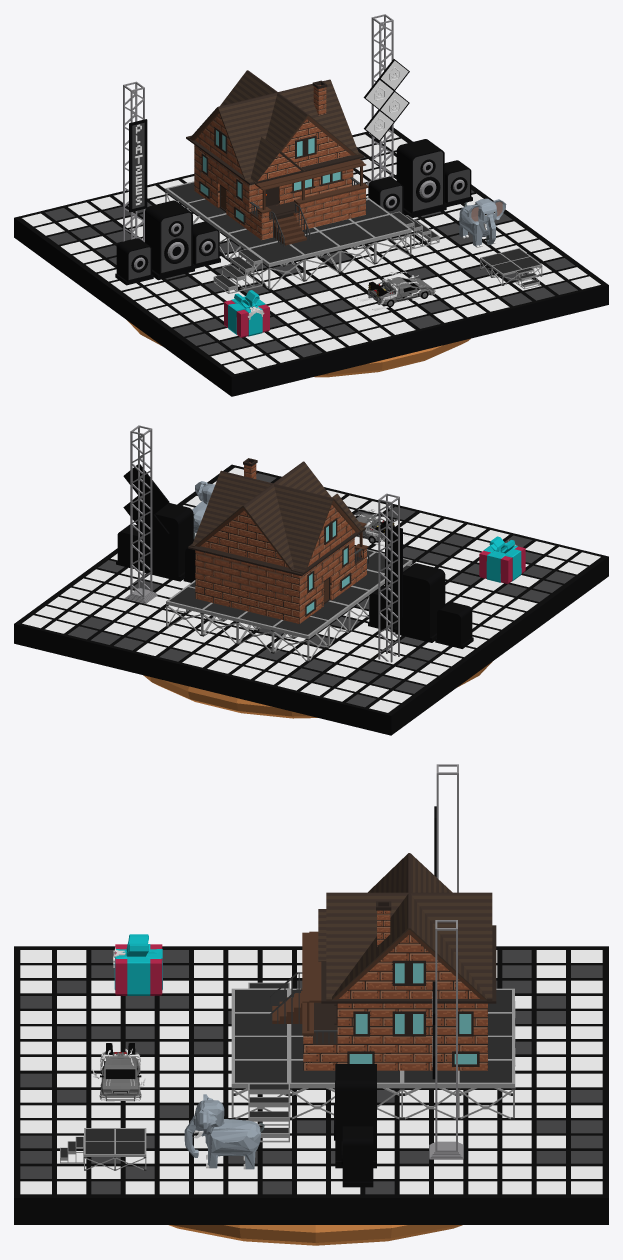
3 renders of one model, top to bottom at view 1: azimuth 30°, elevation 25°; view 2: azimuth 150°, elevation 25°; view 3: azimuth 270°, elevation 25°, orthographic. The views are drawn at different scales.
Parts seen in each view (by area): view 1: Cube.008, Cube.469, OBJRANDOM_GIANT_PRESENT, ANIMAL_ELEFANTE, VEHICLES_DELOREAN, UNDERGROUND_PIZZA; view 2: Cube.008, Cube.469, UNDERGROUND_PIZZA, OBJRANDOM_GIANT_PRESENT, VEHICLES_DELOREAN, ANIMAL_ELEFANTE; view 3: Cube.008, Cube.469, UNDERGROUND_PIZZA, ANIMAL_ELEFANTE, OBJRANDOM_GIANT_PRESENT, VEHICLES_DELOREAN.
Part boxes in pixels (x1=…): Cube.008: x1=14, y1=14, x2=608, y2=396; Cube.469: x1=186, y1=70, x2=368, y2=246; OBJRANDOM_GIANT_PRESENT: x1=224, y1=290, x2=269, y2=337; ANIMAL_ELEFANTE: x1=459, y1=198, x2=506, y2=247; VEHICLES_DELOREAN: x1=355, y1=271, x2=435, y2=310; UNDERGROUND_PIZZA: x1=127, y1=320, x2=470, y2=377; Cube.008: x1=14, y1=425, x2=608, y2=735; Cube.469: x1=188, y1=458, x2=369, y2=623; UNDERGROUND_PIZZA: x1=143, y1=661, x2=492, y2=718; OBJRANDOM_GIANT_PRESENT: x1=479, y1=536, x2=525, y2=583; VEHICLES_DELOREAN: x1=354, y1=508, x2=404, y2=546; ANIMAL_ELEFANTE: x1=192, y1=481, x2=214, y2=538; Cube.008: x1=14, y1=764, x2=608, y2=1224; Cube.469: x1=270, y1=853, x2=496, y2=1070; UNDERGROUND_PIZZA: x1=169, y1=1225, x2=462, y2=1245; ANIMAL_ELEFANTE: x1=184, y1=1094, x2=264, y2=1169; OBJRANDOM_GIANT_PRESENT: x1=113, y1=934, x2=162, y2=995; VEHICLES_DELOREAN: x1=92, y1=1043, x2=145, y2=1101.
Bounding box in the file's own units: 4000 × 2184 × 4000.
Materials: 43 (2 with a texture image).
